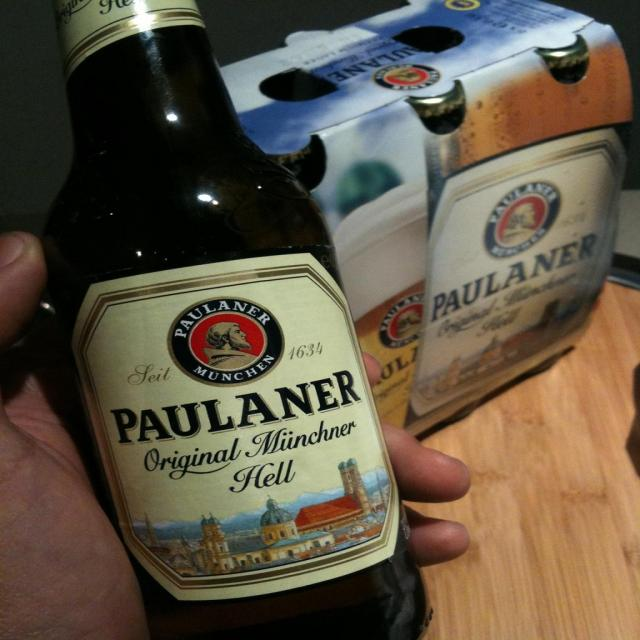paulaner: (168, 298, 286, 388), (484, 183, 563, 260), (378, 295, 426, 349), (376, 64, 440, 92)
